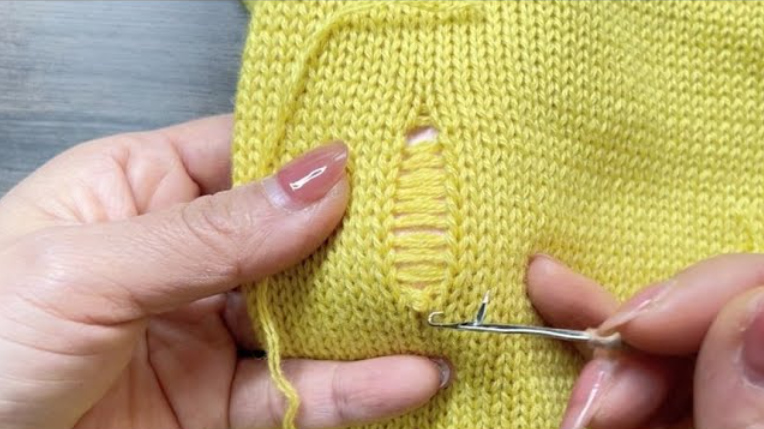missing_stitch_1: (399, 112, 463, 307)
